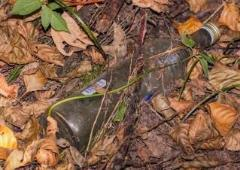glass: (44, 20, 221, 156)
